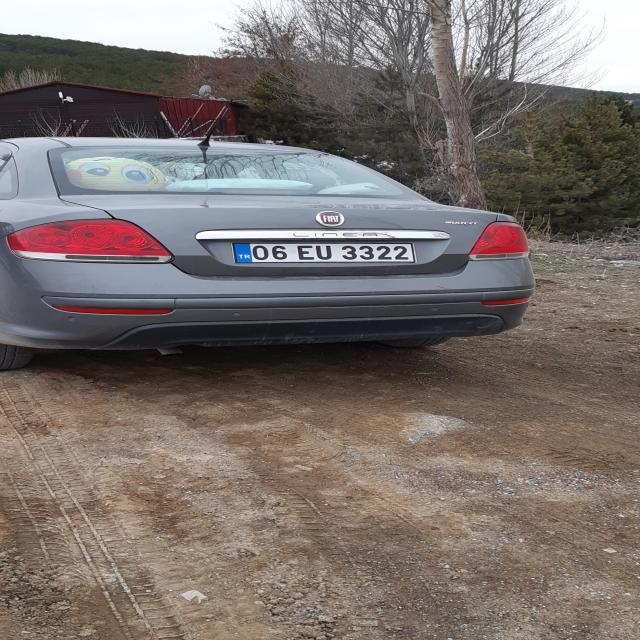license_plate: (232, 242, 416, 263)
